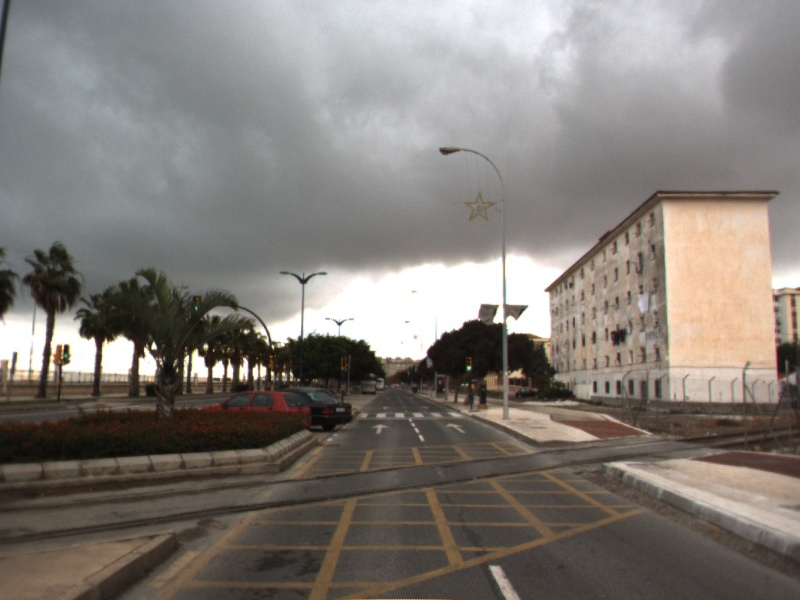STRAIGHT: (444, 421, 469, 435), (369, 422, 391, 436)
